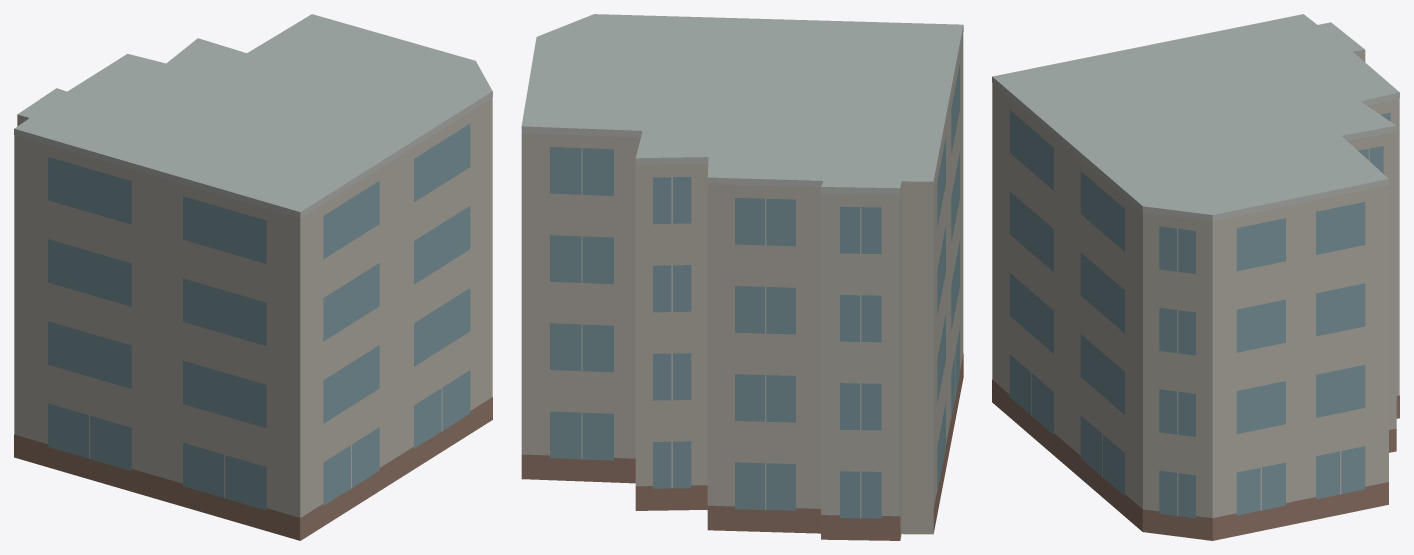
The model's file is survey-upis-32735165.glb.
The picture shows the model from 3 angles, left to right: view 1: azimuth 30°, elevation 25°; view 2: azimuth 150°, elevation 25°; view 3: azimuth 270°, elevation 25°; orthographic projection. The views are drawn at different scales.
Parts seen in each view (by area): view 1: survey-upis-32735165.tmp; view 2: survey-upis-32735165.tmp; view 3: survey-upis-32735165.tmp.
Boxes of the visible parts, bbox=[...] form: survey-upis-32735165.tmp: bbox=[14, 14, 492, 540]; survey-upis-32735165.tmp: bbox=[521, 14, 963, 540]; survey-upis-32735165.tmp: bbox=[992, 14, 1399, 540].
Bounding box in the file's own units: 17.09 × 12.9 × 14.64.
